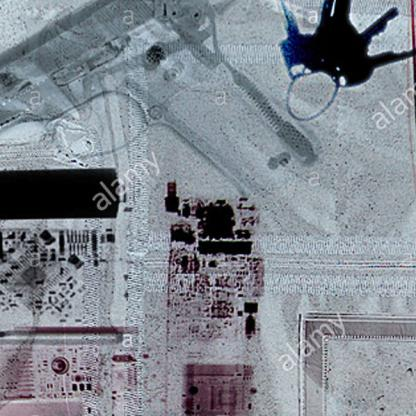gun: (0, 0, 328, 194)
